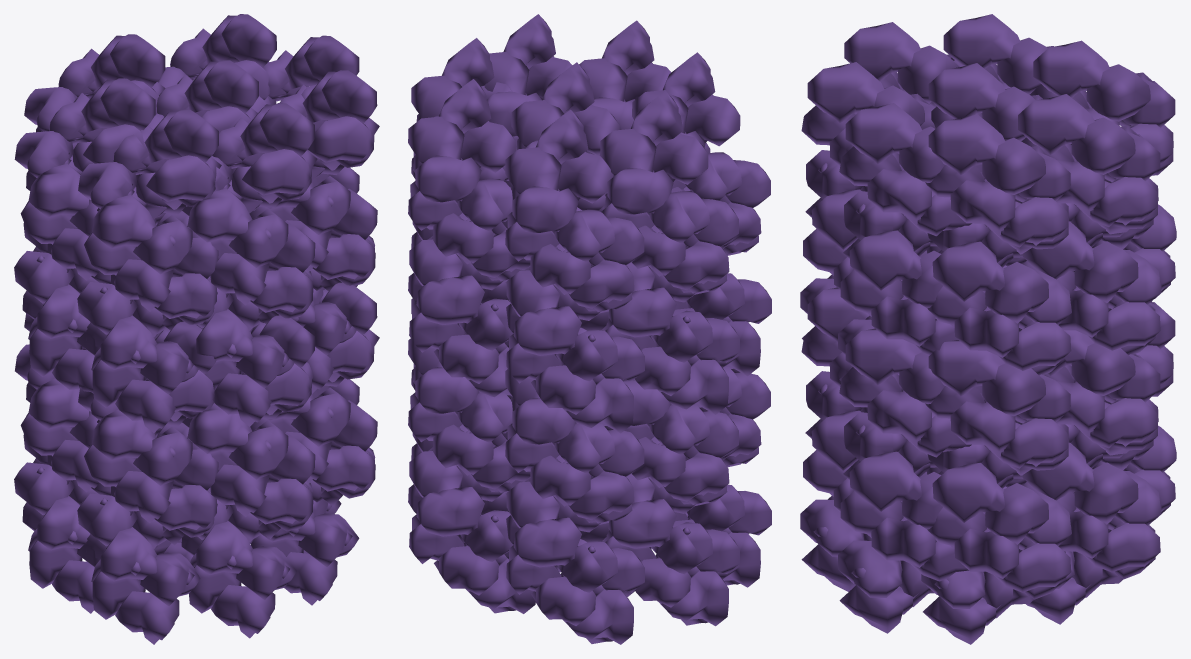
Rendered from molstar-model(5).glb.
3 renders of one model, left to right at view 1: azimuth 30°, elevation 25°; view 2: azimuth 150°, elevation 25°; view 3: azimuth 270°, elevation 25°, orthographic. The views are drawn at different scales.
Size of the model in its own units: 478 by 729 by 460.
